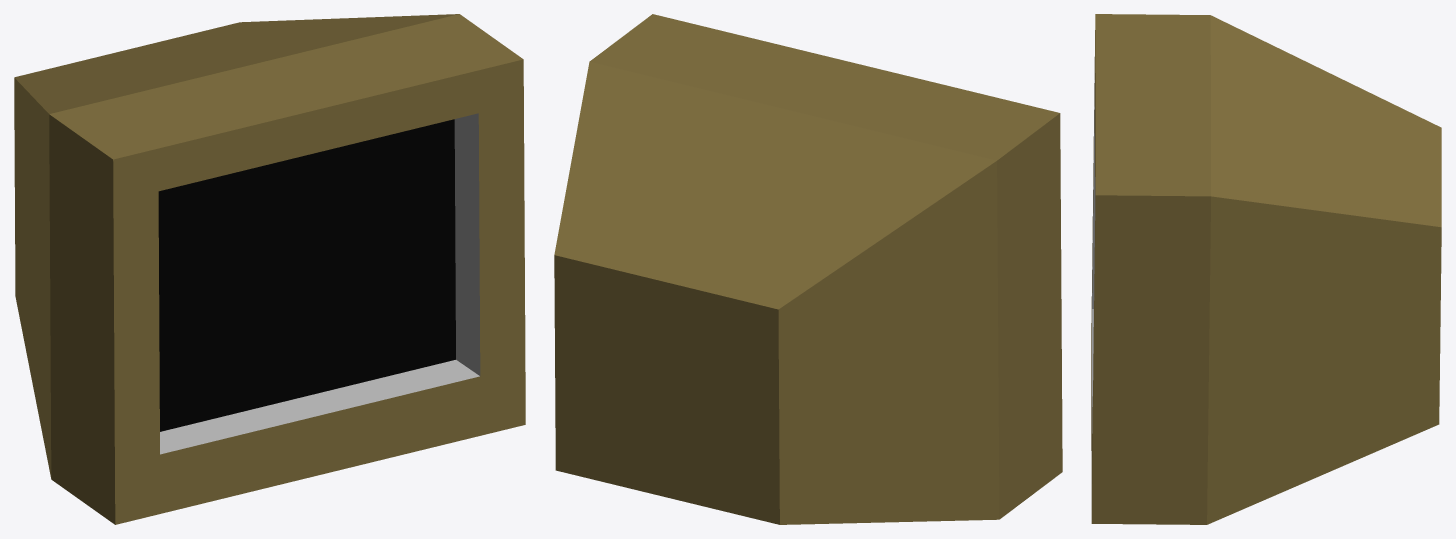
3 views of the same model, side by side, from view 1: azimuth 30°, elevation 25°; view 2: azimuth 150°, elevation 25°; view 3: azimuth 270°, elevation 25° (orthographic). The views are drawn at different scales.
Parts seen in each view (by area): view 1: PilaBasura_Grande.005; view 2: PilaBasura_Grande.005; view 3: PilaBasura_Grande.005.
Boxes of the visible parts, left/top/right/bottom form: PilaBasura_Grande.005: left=14, top=14, right=525, bottom=524; PilaBasura_Grande.005: left=554, top=14, right=1062, bottom=524; PilaBasura_Grande.005: left=1091, top=14, right=1441, bottom=524.
Size of the model in its own units: 0.5203 by 0.4418 by 0.4253.
